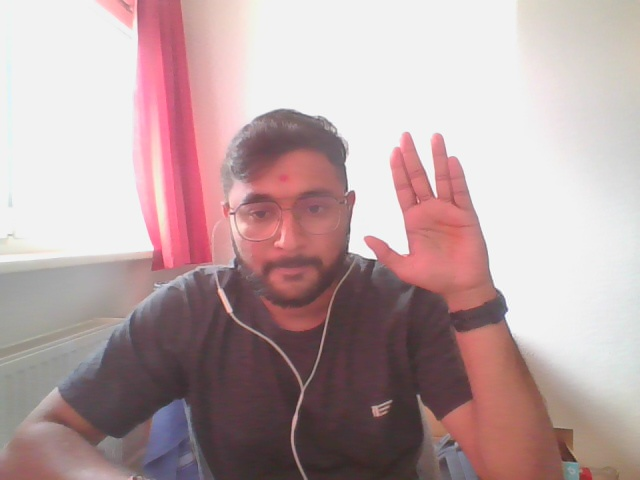LiveLong: (367, 134, 488, 286)
